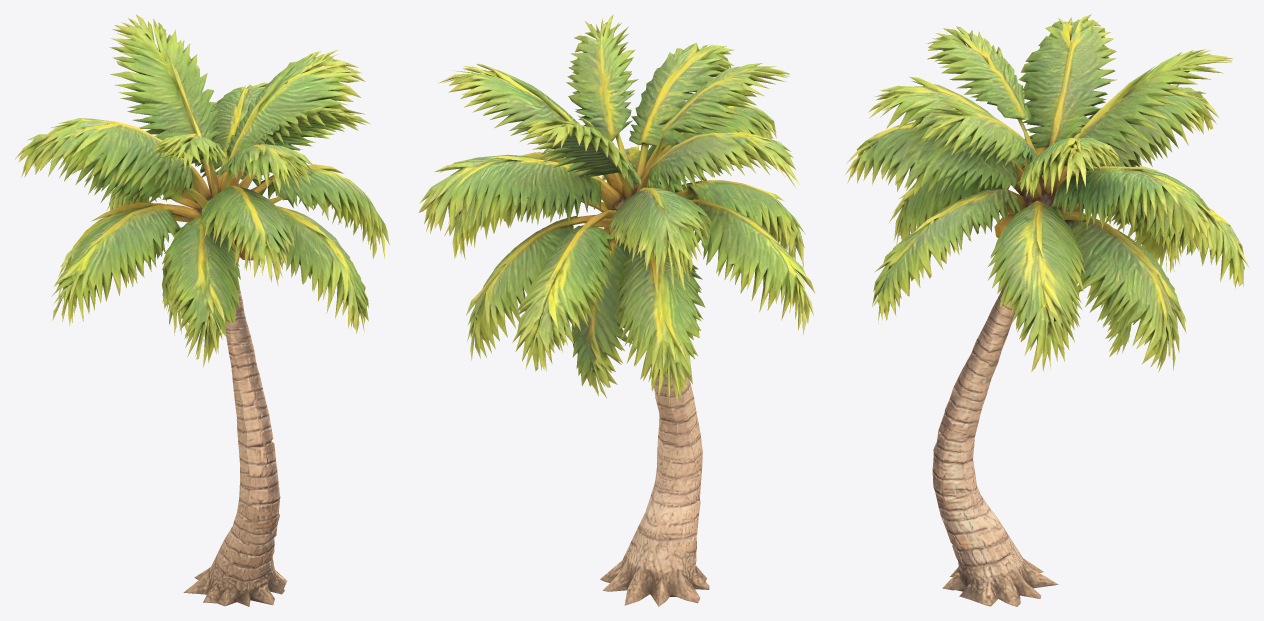
The model's file is base_basic_shaded.glb.
3 views of the same model, side by side, from view 1: azimuth 30°, elevation 25°; view 2: azimuth 150°, elevation 25°; view 3: azimuth 270°, elevation 25° (orthographic). The views are drawn at different scales.
Parts seen in each view (by area): view 1: model; view 2: model; view 3: model.
Boxes of the visible parts, x1,y1,x2,y2 form: model: [15, 14, 389, 606]; model: [419, 14, 815, 606]; model: [845, 14, 1249, 606].
Bounding box in the file's own units: 1.36 × 1.9 × 1.32.
1 material, 1 textured.
